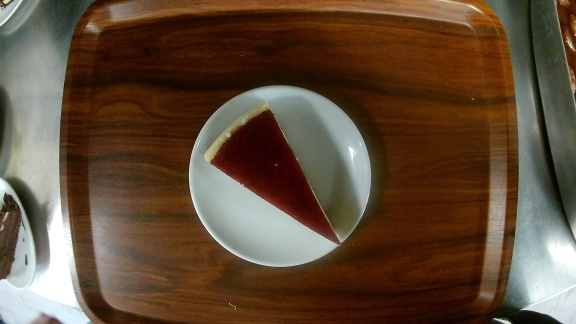frambuazlipasta: (190, 85, 374, 265)
